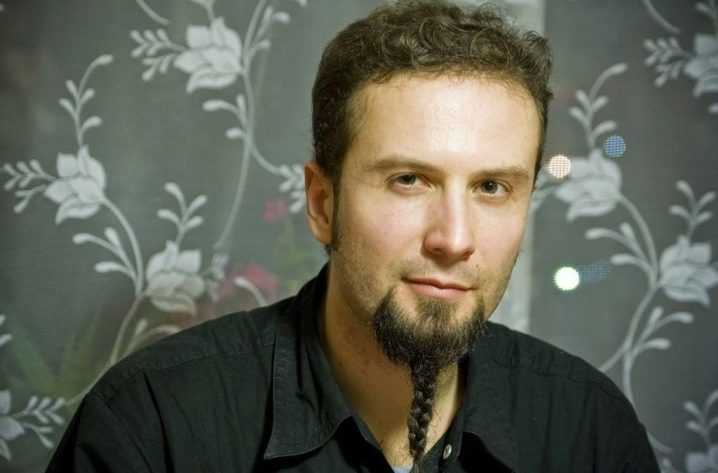beard: (363, 269, 491, 394)
